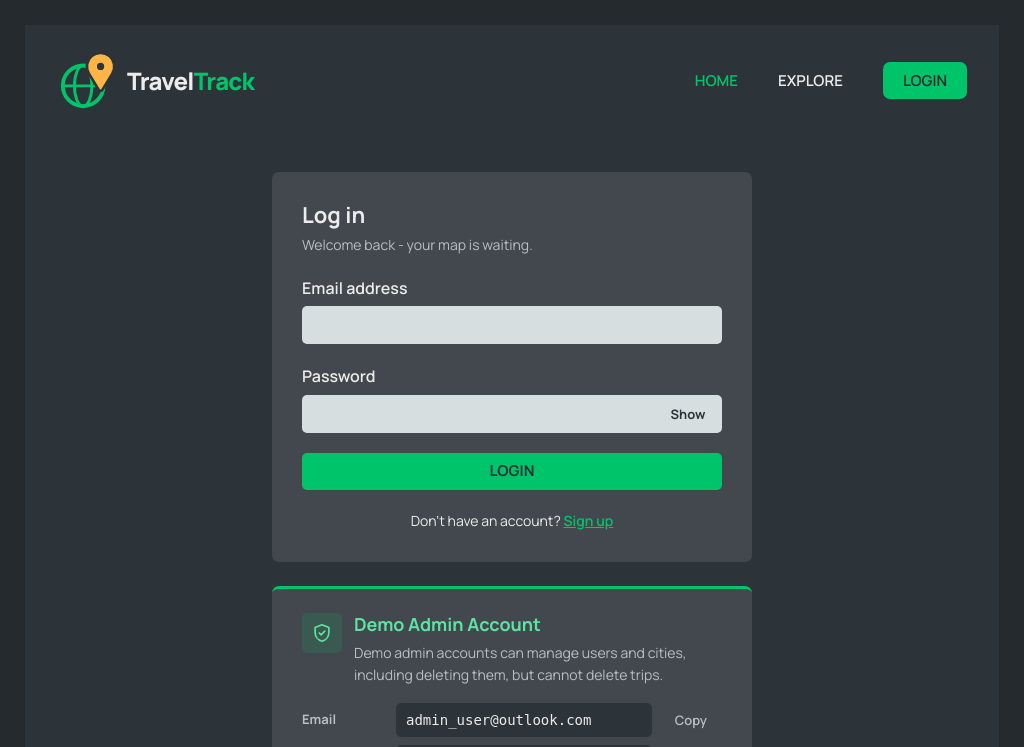
Scenario: Login form › explains an empty submit instead of doing nothing
Click the button "Login" at (512, 472), box [302, 453, 722, 490]
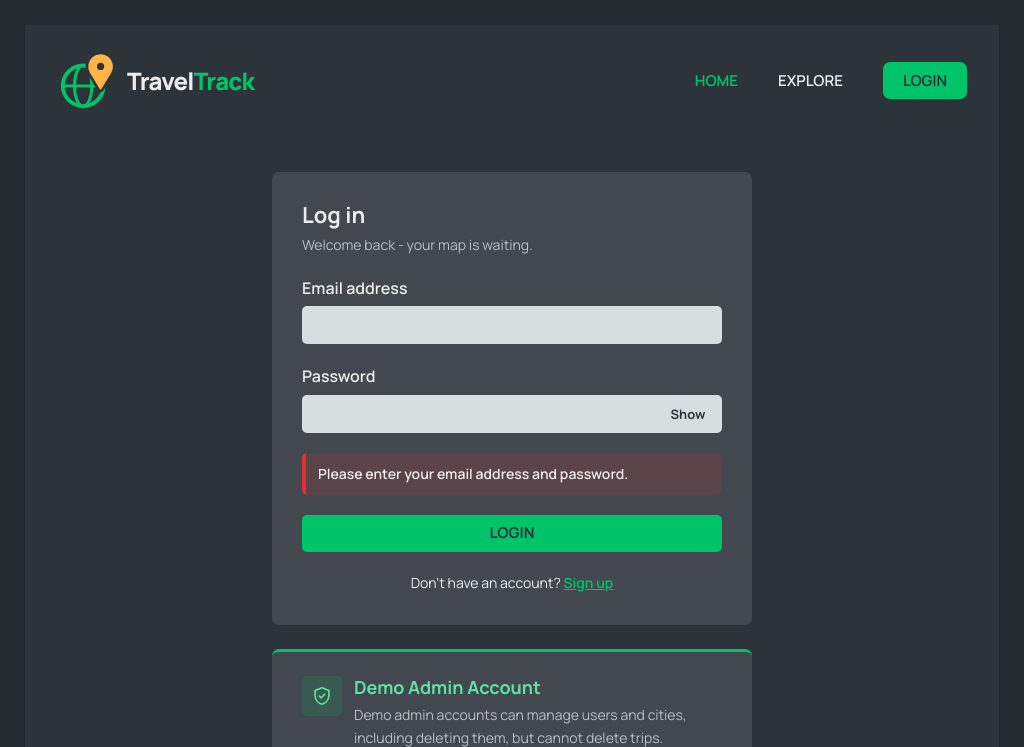
Check: the message reads "Please enter your email address and password.", box [318, 464, 628, 483]
